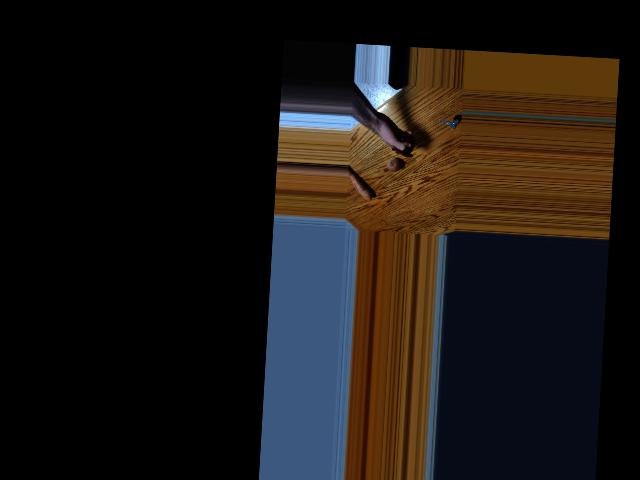onion: (386, 155, 401, 172)
